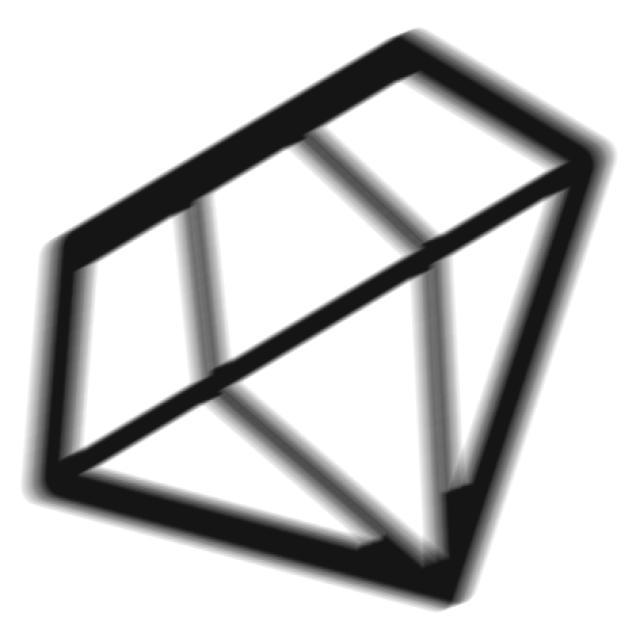diamond: (13, 19, 626, 617)
